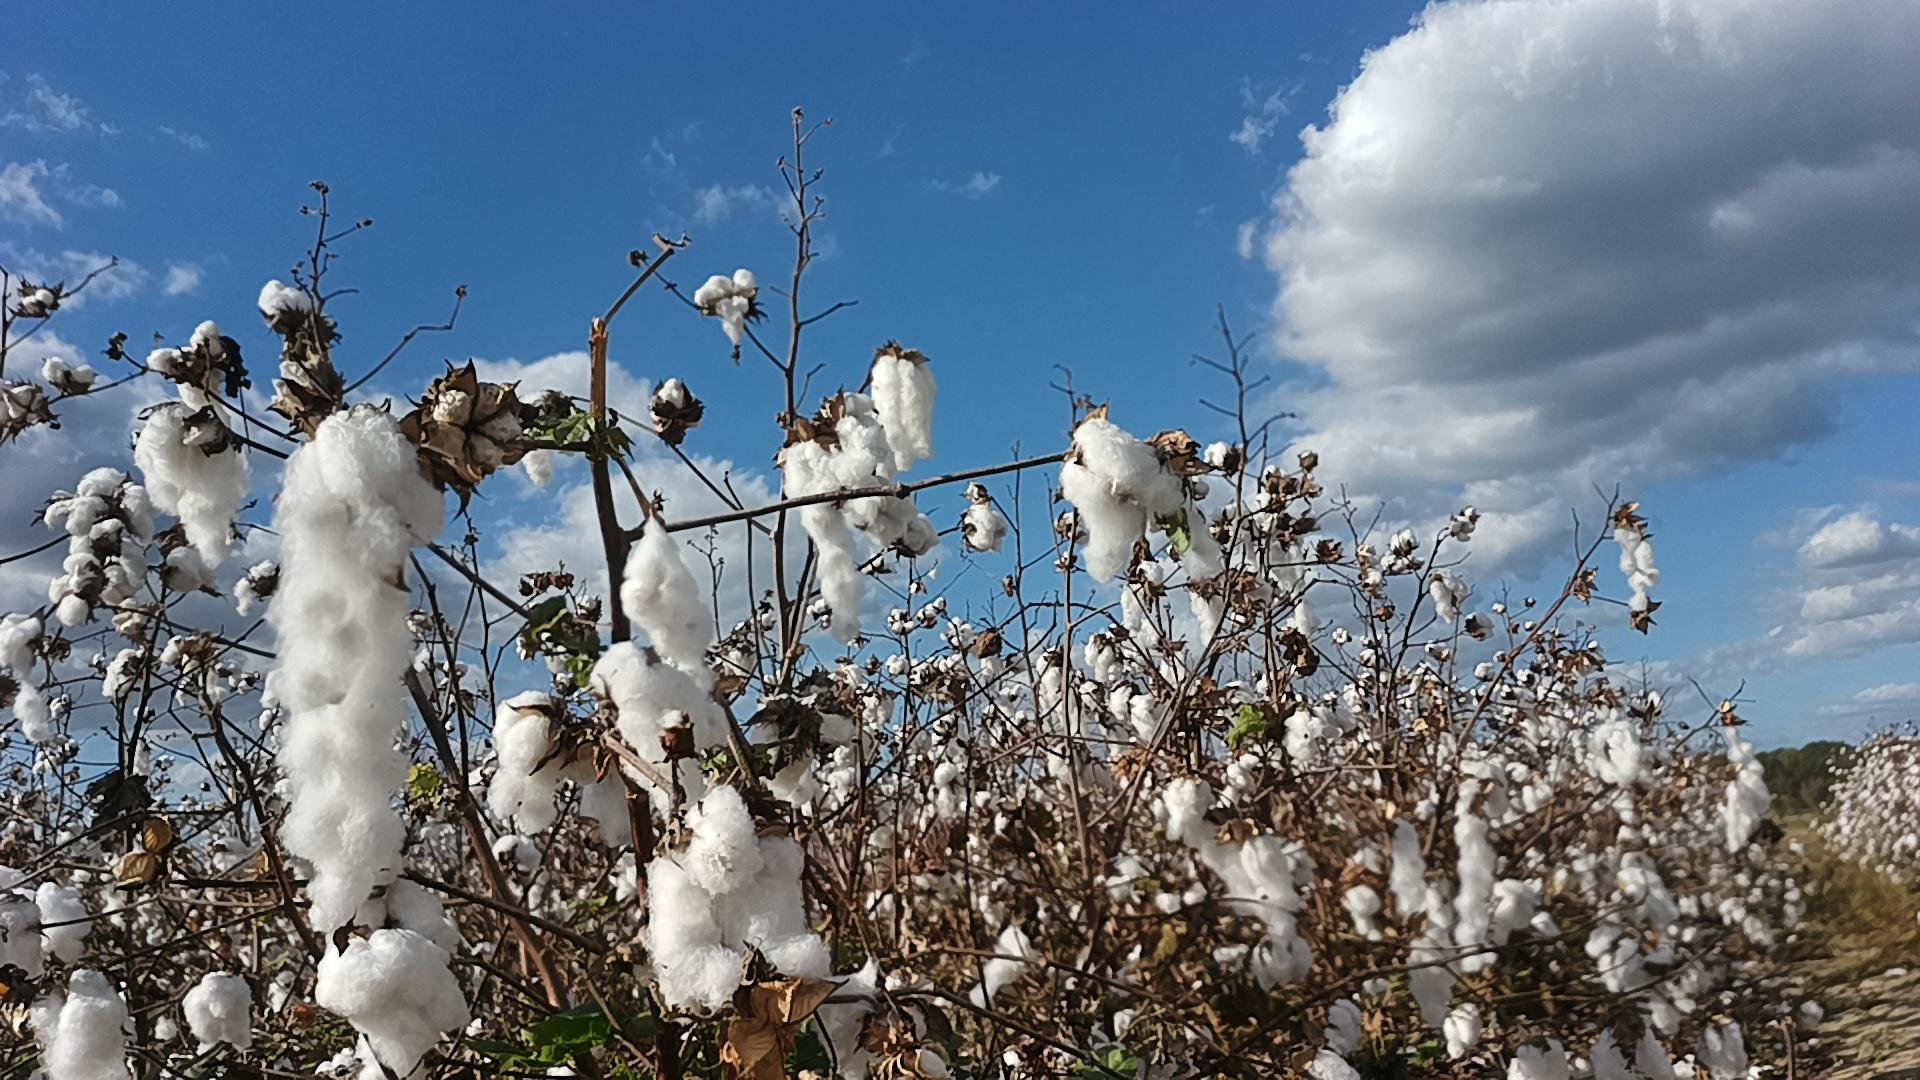cotton_ready: (269, 409, 447, 928), (653, 793, 831, 1009), (786, 394, 887, 645), (316, 928, 472, 1080), (588, 642, 729, 808), (1063, 421, 1178, 584), (136, 402, 249, 567), (812, 967, 951, 1080), (617, 513, 715, 659), (25, 967, 131, 1080), (1400, 825, 1457, 1021), (332, 860, 455, 947), (744, 712, 866, 796), (1455, 769, 1505, 971), (42, 467, 153, 538), (427, 390, 518, 473), (1207, 839, 1307, 914), (495, 695, 572, 787), (872, 353, 931, 471), (183, 975, 255, 1052), (855, 492, 935, 554), (579, 752, 633, 840), (1251, 918, 1316, 990), (493, 767, 558, 839), (1593, 1026, 1675, 1080), (38, 890, 91, 964), (1167, 778, 1217, 849), (0, 898, 42, 981), (1506, 1040, 1575, 1080)
